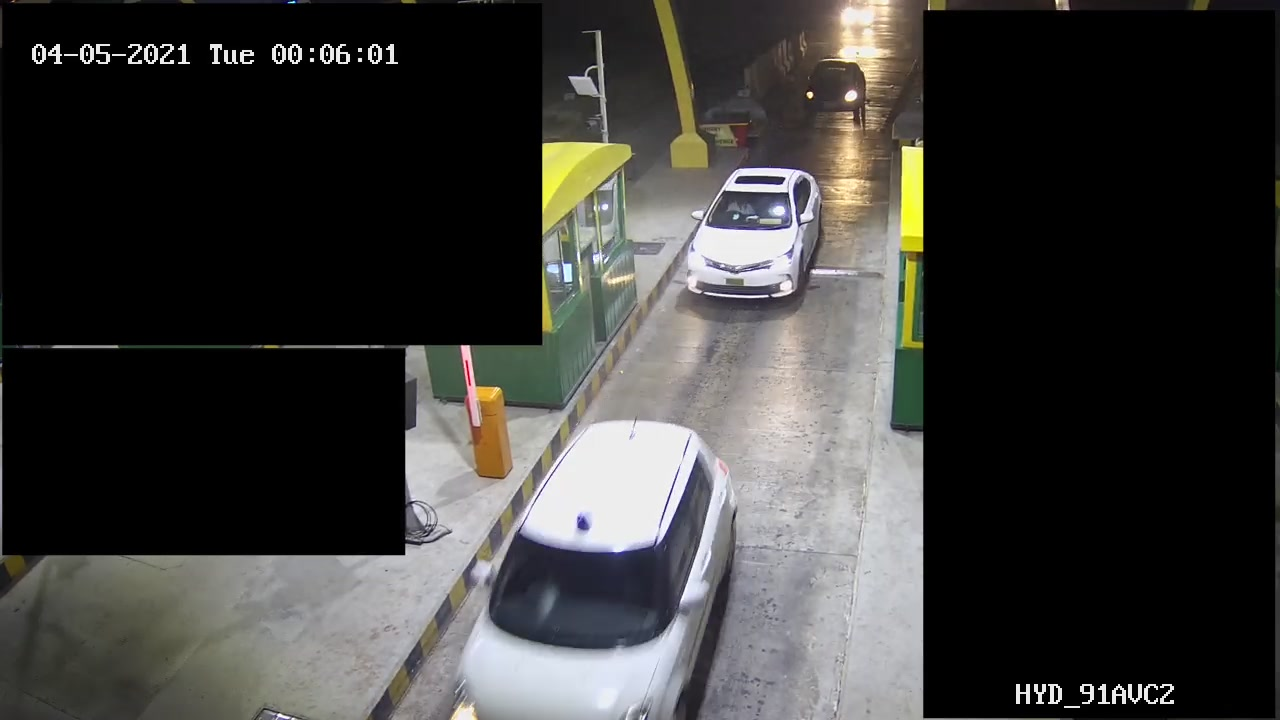F1: (681, 159, 833, 307)
